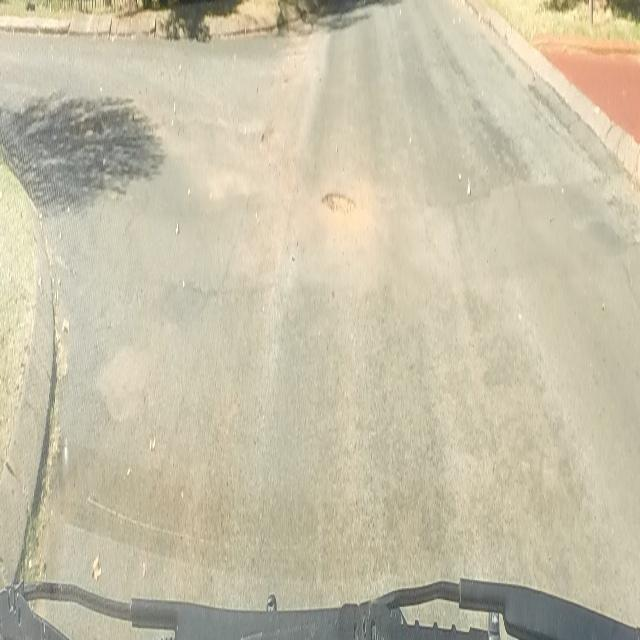pothole: (319, 186, 357, 218)
